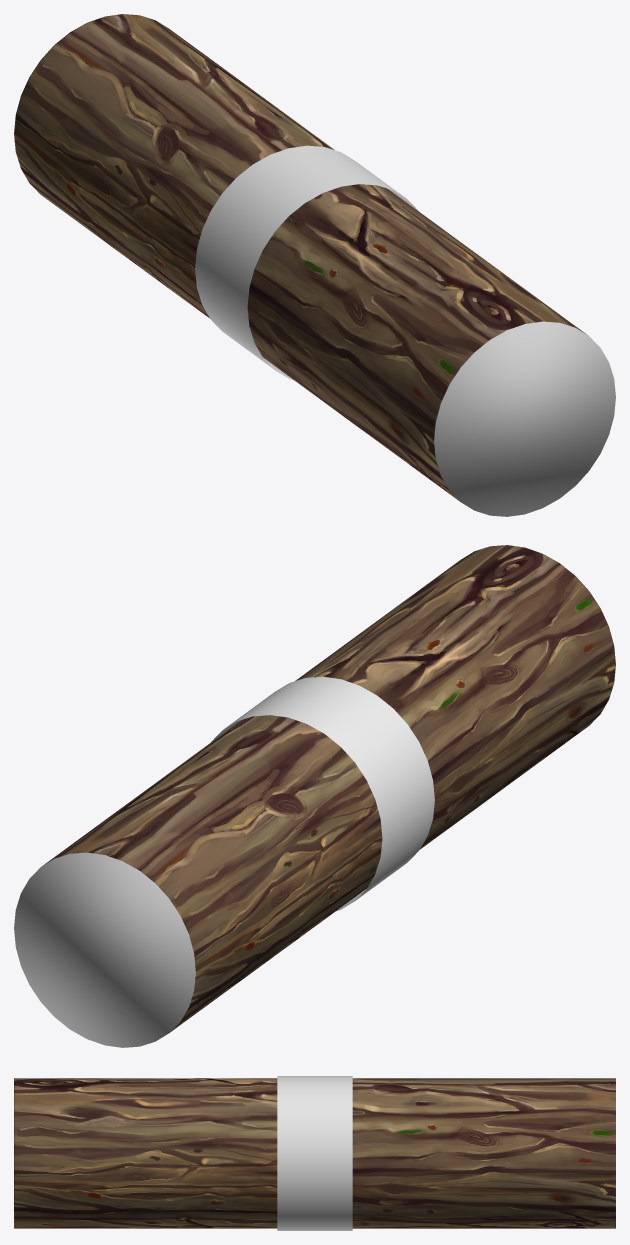
The model's file is ExportedBlenderFBXFile.fbx.
3 renders of one model, top to bottom at view 1: azimuth 30°, elevation 25°; view 2: azimuth 150°, elevation 25°; view 3: azimuth 270°, elevation 25°, orthographic. The views are drawn at different scales.
Parts seen in each view (by area): view 1: Cylinder, Cylinder.001; view 2: Cylinder, Cylinder.001; view 3: Cylinder, Cylinder.001.
Boxes of the visible parts, x1,y1,x2,y2 form: Cylinder: [14, 14, 615, 516]; Cylinder.001: [195, 145, 418, 380]; Cylinder: [14, 545, 615, 1047]; Cylinder.001: [211, 676, 434, 911]; Cylinder: [14, 1078, 615, 1228]; Cylinder.001: [277, 1076, 352, 1230].
Size of the model in its own units: 2.06 by 2.06 by 8.
